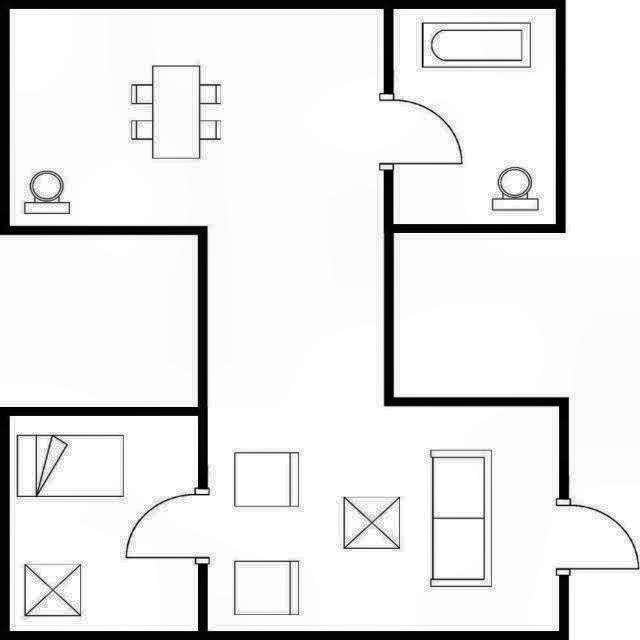room: (10, 415, 197, 630), (394, 9, 555, 223)
